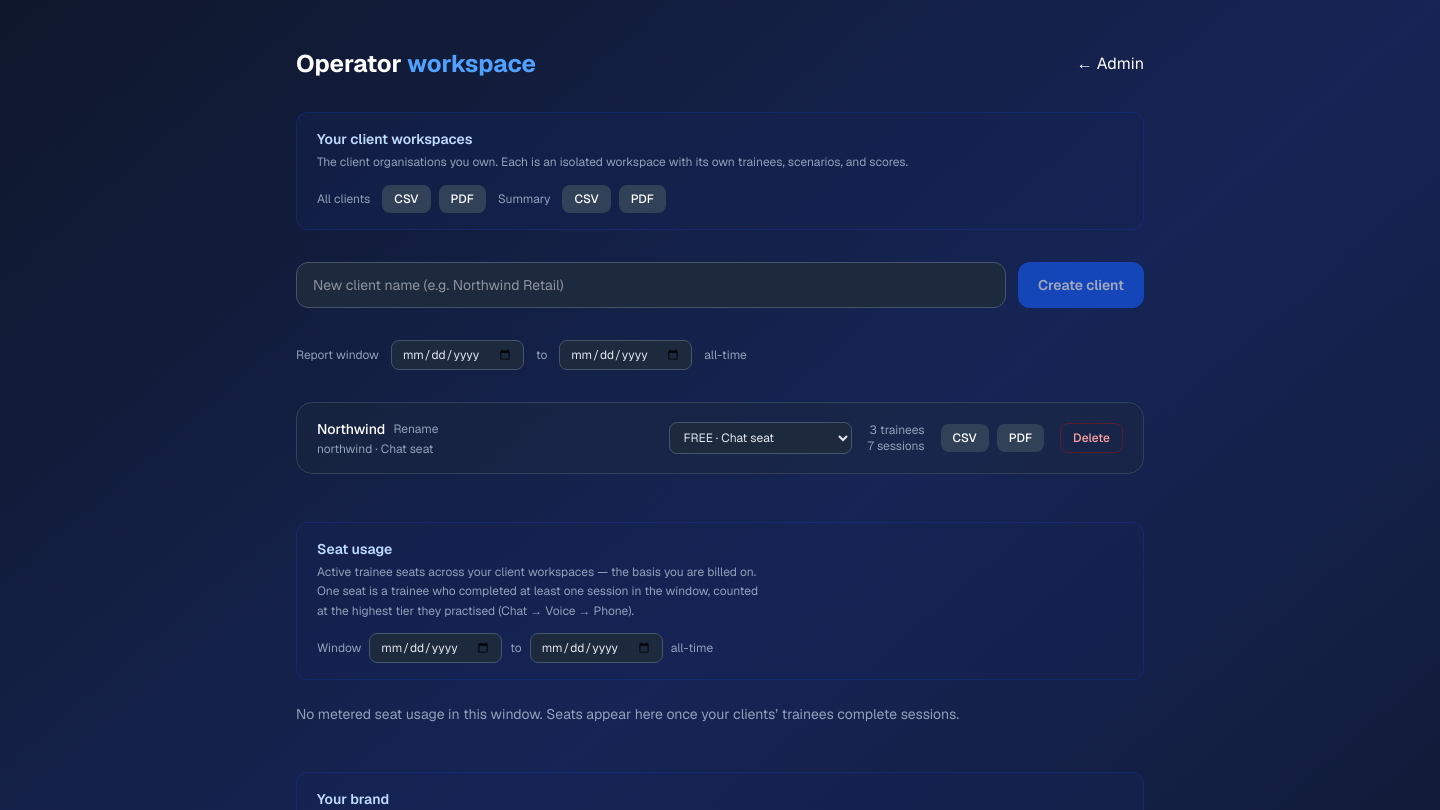
Test: Operator workspace — operator view › surfaces the 409 error when deleting a client that has sessions and keeps the row
Expected: the text "Northwind" is shown, [317, 418, 385, 438]
Click the button with aria-label "Delete Northwind" at (1092, 438), box [1060, 422, 1123, 452]
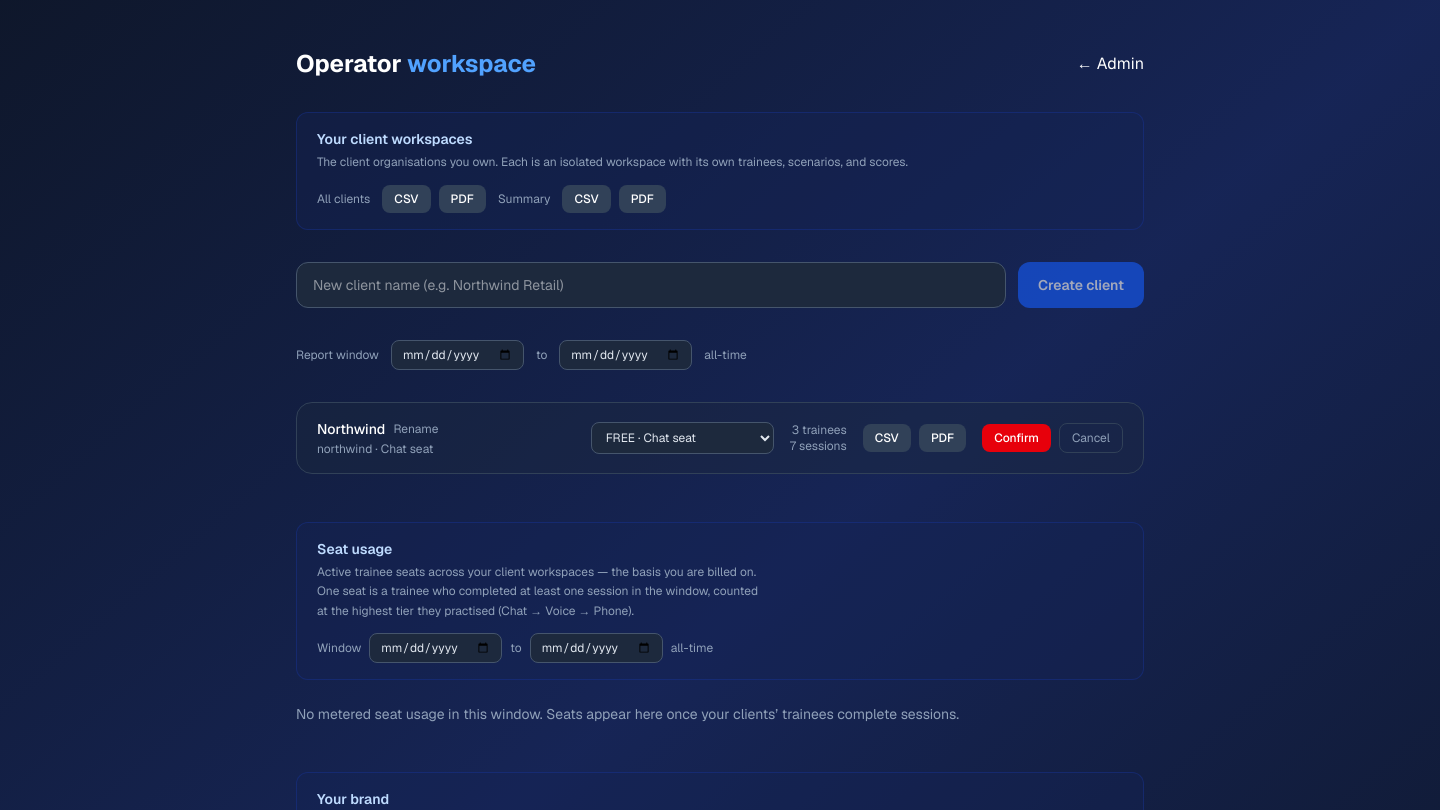
Click the button with aria-label "Confirm delete Northwind" at (1017, 438), box [982, 424, 1051, 452]
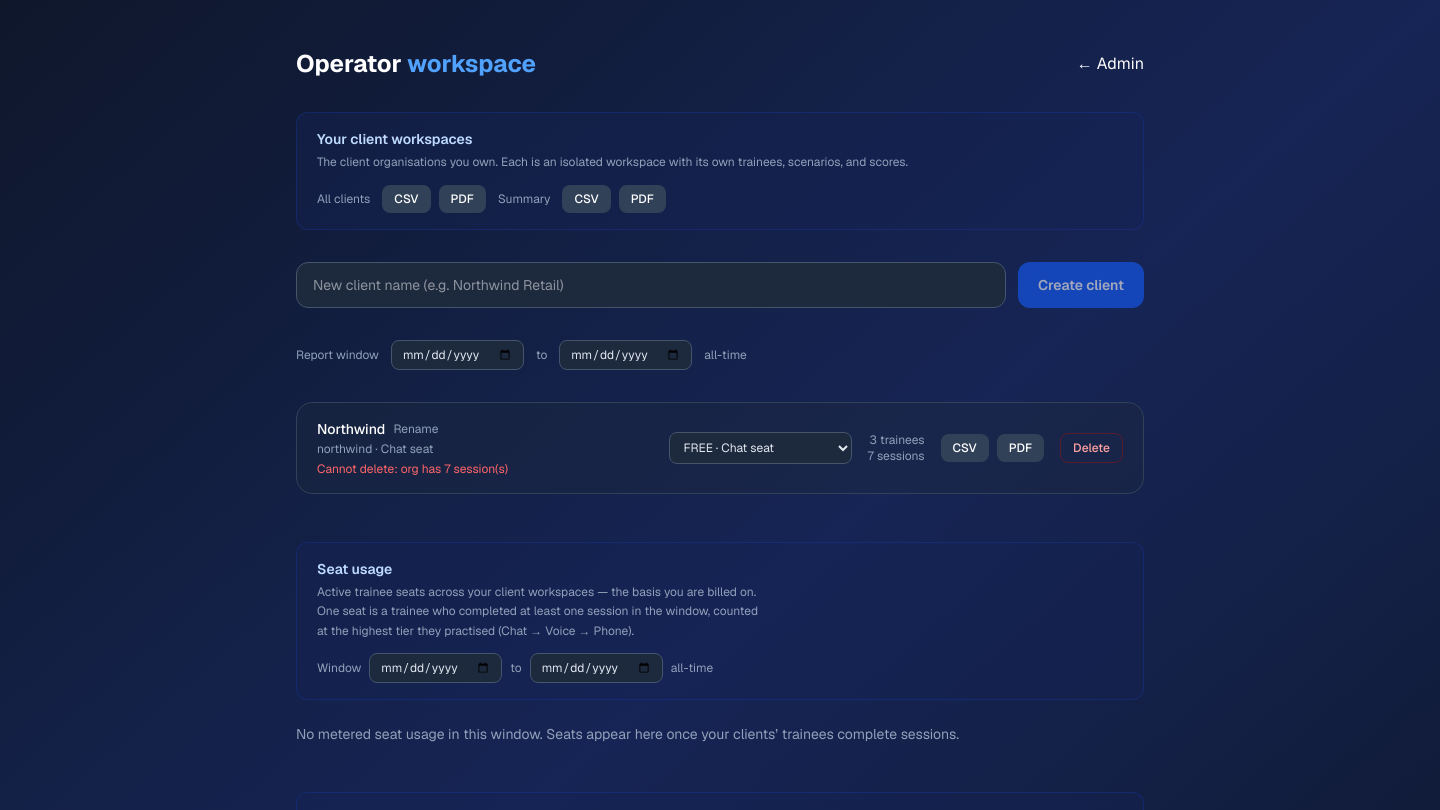
Expected: the text "Northwind" is shown, [317, 418, 385, 438]
Result: the text "Cannot delete: org has 7 session(s)" is shown at [317, 460, 508, 476]
